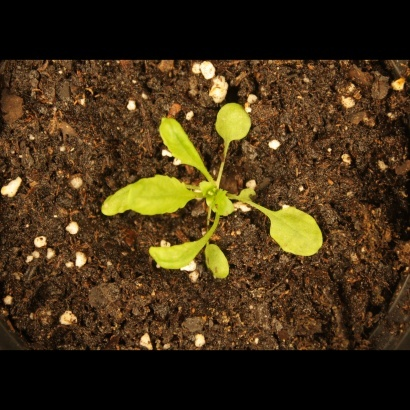leaf: (252, 204, 338, 260), (96, 175, 193, 220), (151, 114, 212, 172), (207, 98, 265, 147), (146, 232, 210, 273), (201, 241, 236, 280), (207, 188, 238, 220), (237, 186, 260, 209)
